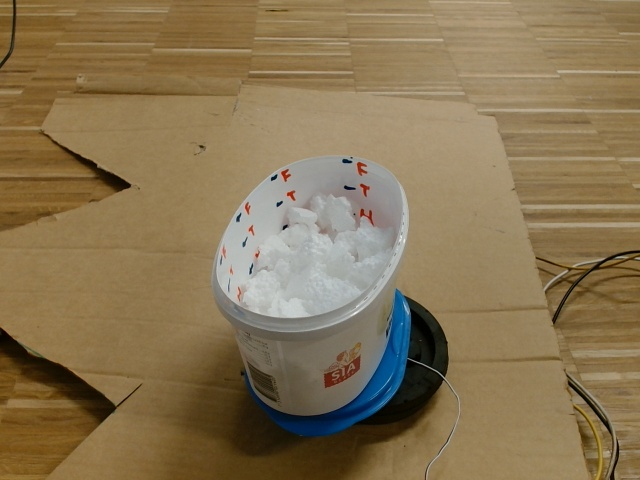Big_half: (208, 151, 410, 338)
